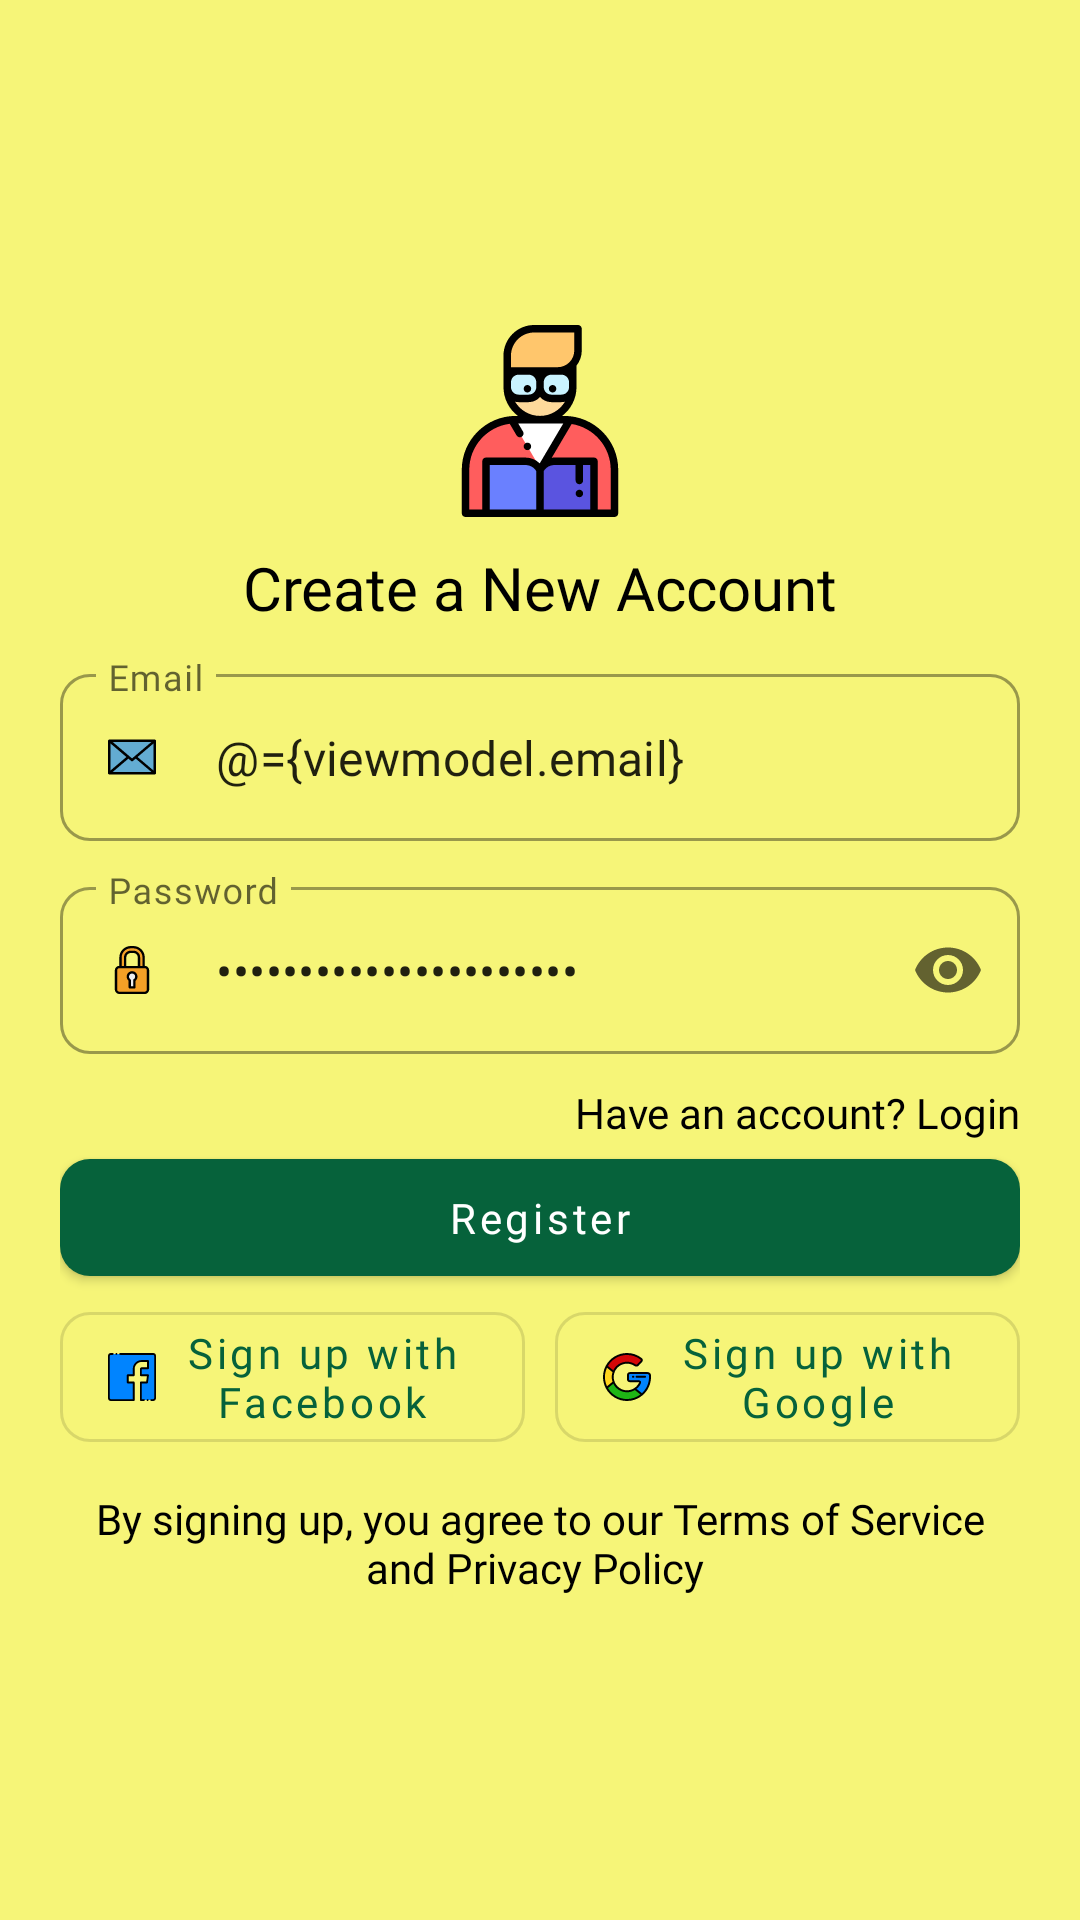

Where icons sit on this 1080x1920 app screen, as (x1, y1, x2, y2):
student: (461, 325, 619, 517)
